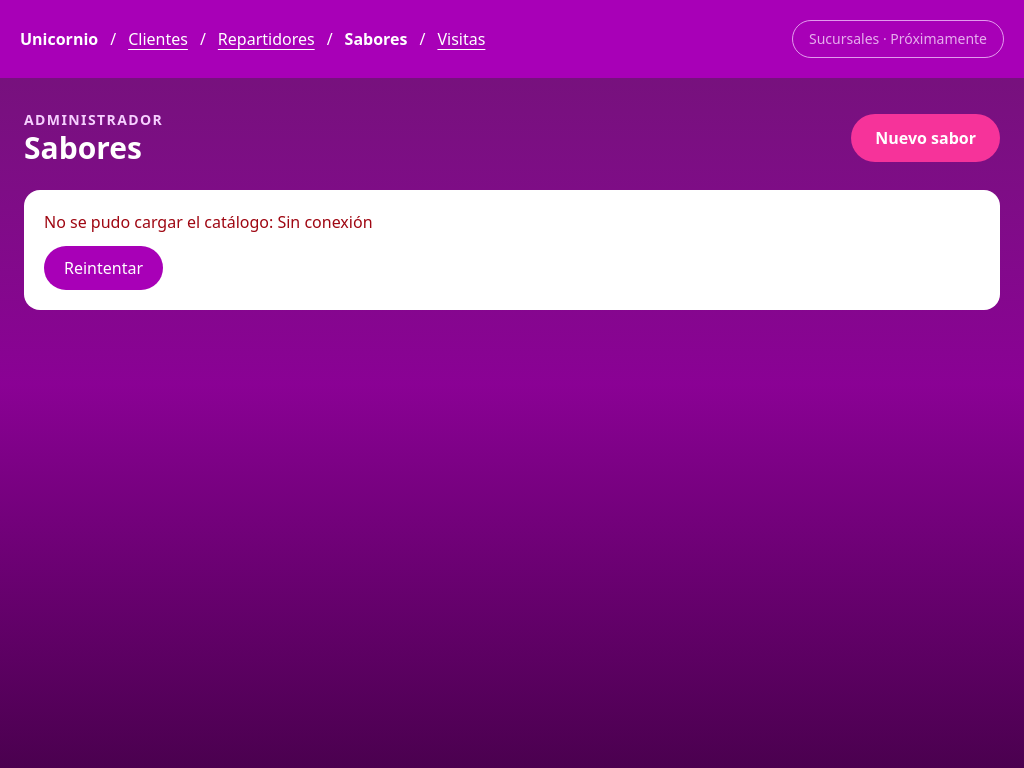
Test: SaboresPage › shows an error and retries the list
Expected: the message "No se pudo cargar el catálogo: Sin conexión Reintentar" is shown, [24,190,1000,310]
Click the button "Reintentar" at (104, 268), box [44,246,163,290]
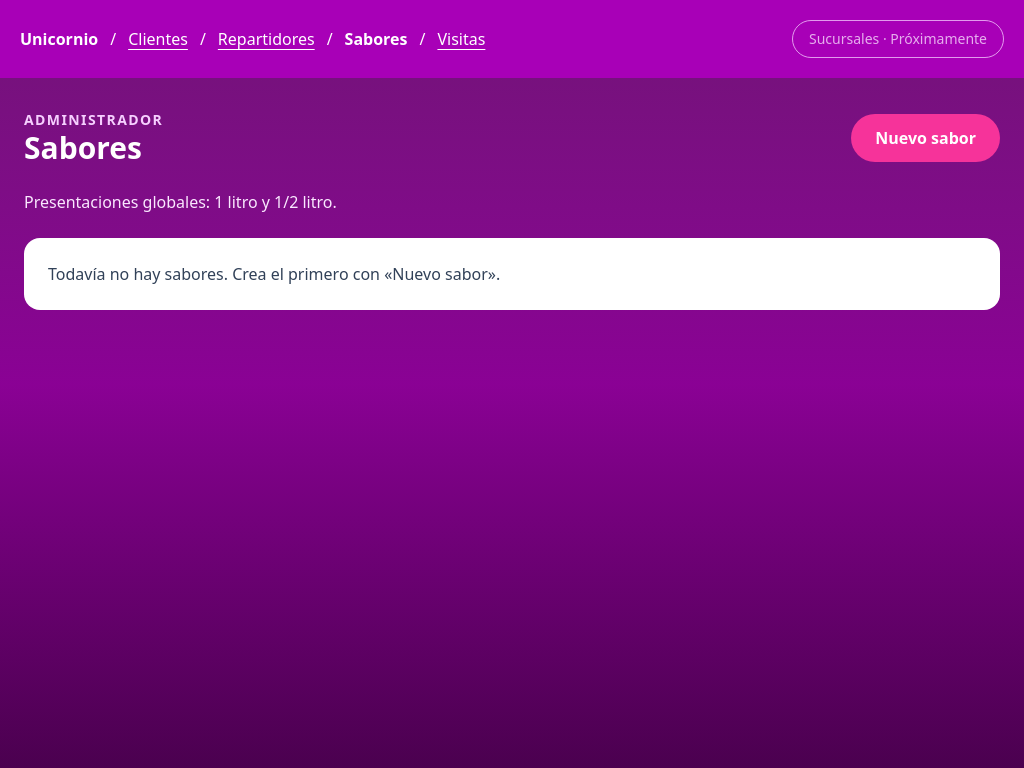
Expected: the text "Todavía no hay sabores" is shown, [48,263,500,285]
